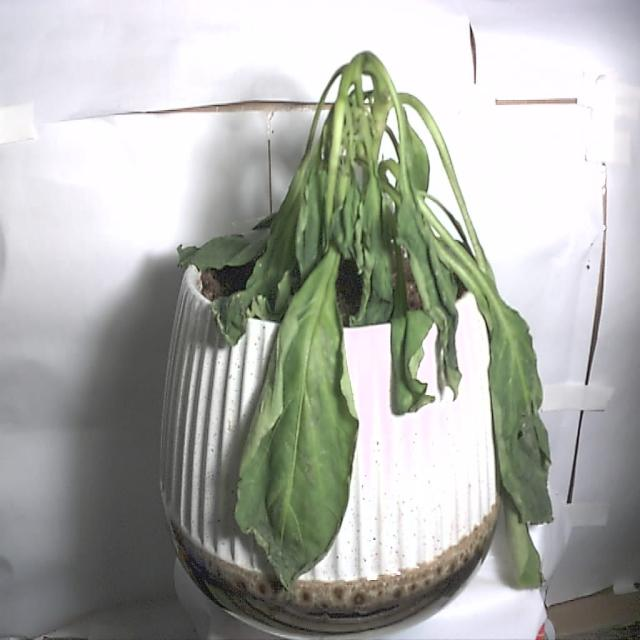Leaf: (232, 261, 362, 598), (487, 275, 554, 531)
